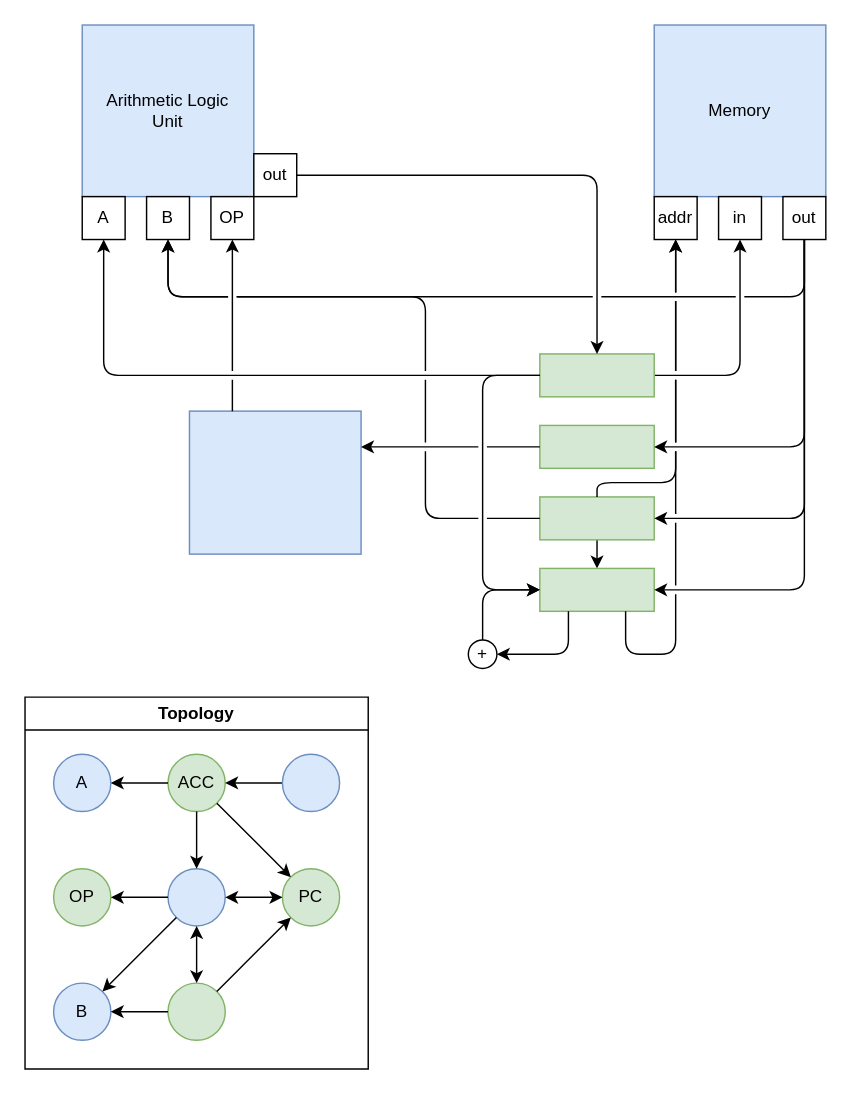
This 851x1094 diagram has some shape labels left out. Each missing label, with the box of its shape:
Accumulator: (538, 352, 654, 397)
ALU OUT: (281, 753, 340, 812)
ARG: (167, 982, 225, 1040)
Argument: (538, 495, 654, 540)
Control Unit: (188, 410, 361, 554)
MEM: (167, 867, 225, 926)
OP-code: (538, 424, 654, 468)
Program Counter: (538, 567, 654, 611)
